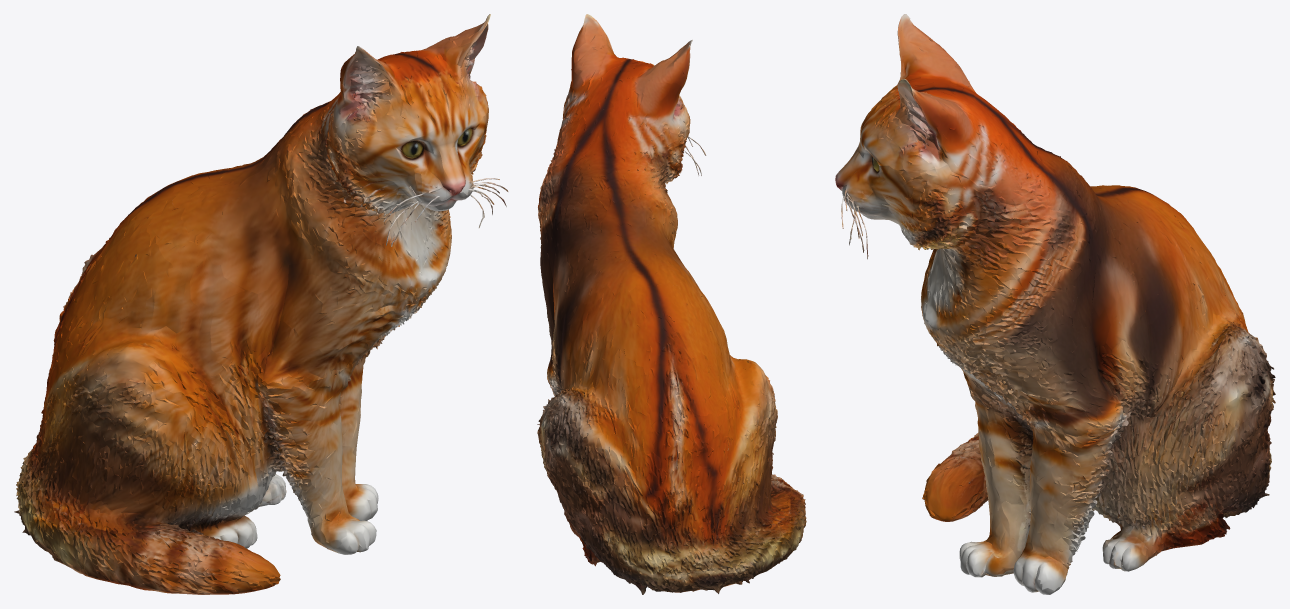
The model's file is ginger_tabby_cat.glb.
3 renders of one model, left to right at view 1: azimuth 30°, elevation 25°; view 2: azimuth 150°, elevation 25°; view 3: azimuth 270°, elevation 25°, orthographic. The views are drawn at different scales.
Visible parts, largest first — view 1: output_unwrapped; view 2: output_unwrapped; view 3: output_unwrapped.
Part boxes in pixels (left/top/right/bottom): output_unwrapped: left=14, top=14, right=508, bottom=594; output_unwrapped: left=537, top=14, right=806, bottom=594; output_unwrapped: left=835, top=14, right=1275, bottom=594.
Bounding box in the file's own units: 1.34 × 1.9 × 1.4.
1 material, 1 textured.
